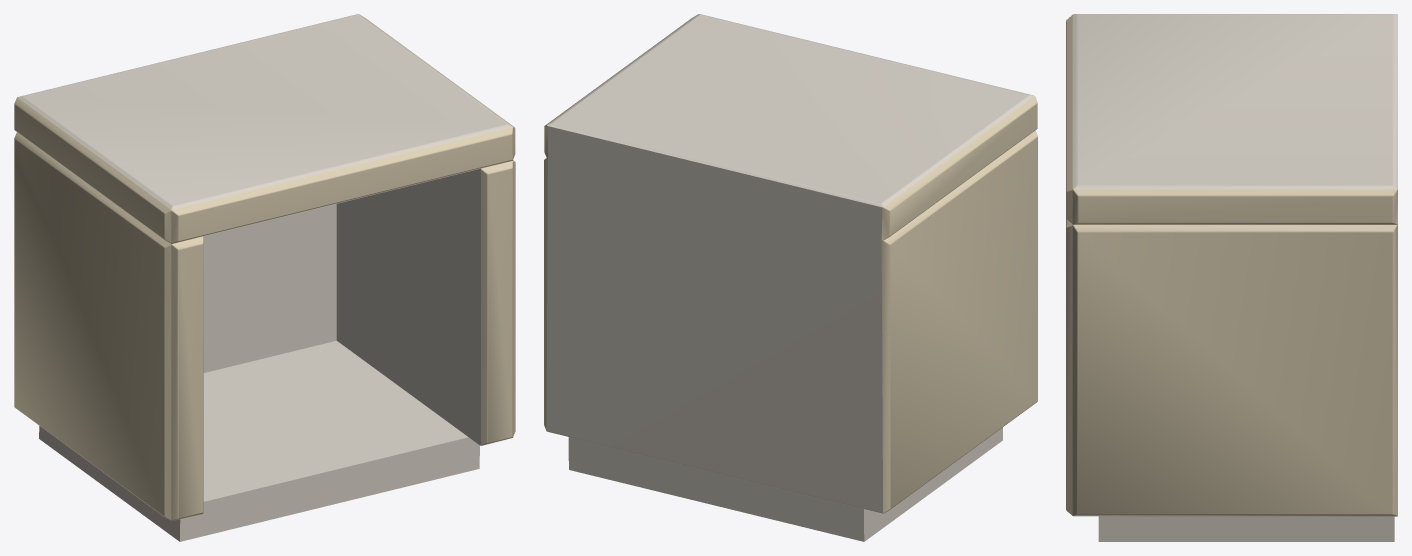
File: bedside1.gltf
The picture shows the model from 3 angles, left to right: view 1: azimuth 30°, elevation 25°; view 2: azimuth 150°, elevation 25°; view 3: azimuth 270°, elevation 25°; orthographic projection. The views are drawn at different scales.
Parts seen in each view (by area): view 1: SM_Bed_Drawer; view 2: SM_Bed_Drawer; view 3: SM_Bed_Drawer.
Part boxes in pixels (<box>): SM_Bed_Drawer: <box>14,14,515,541</box>; SM_Bed_Drawer: <box>544,14,1037,541</box>; SM_Bed_Drawer: <box>1066,14,1397,541</box>.
Bounding box in the file's own units: 0.5969 × 0.5635 × 0.464.
